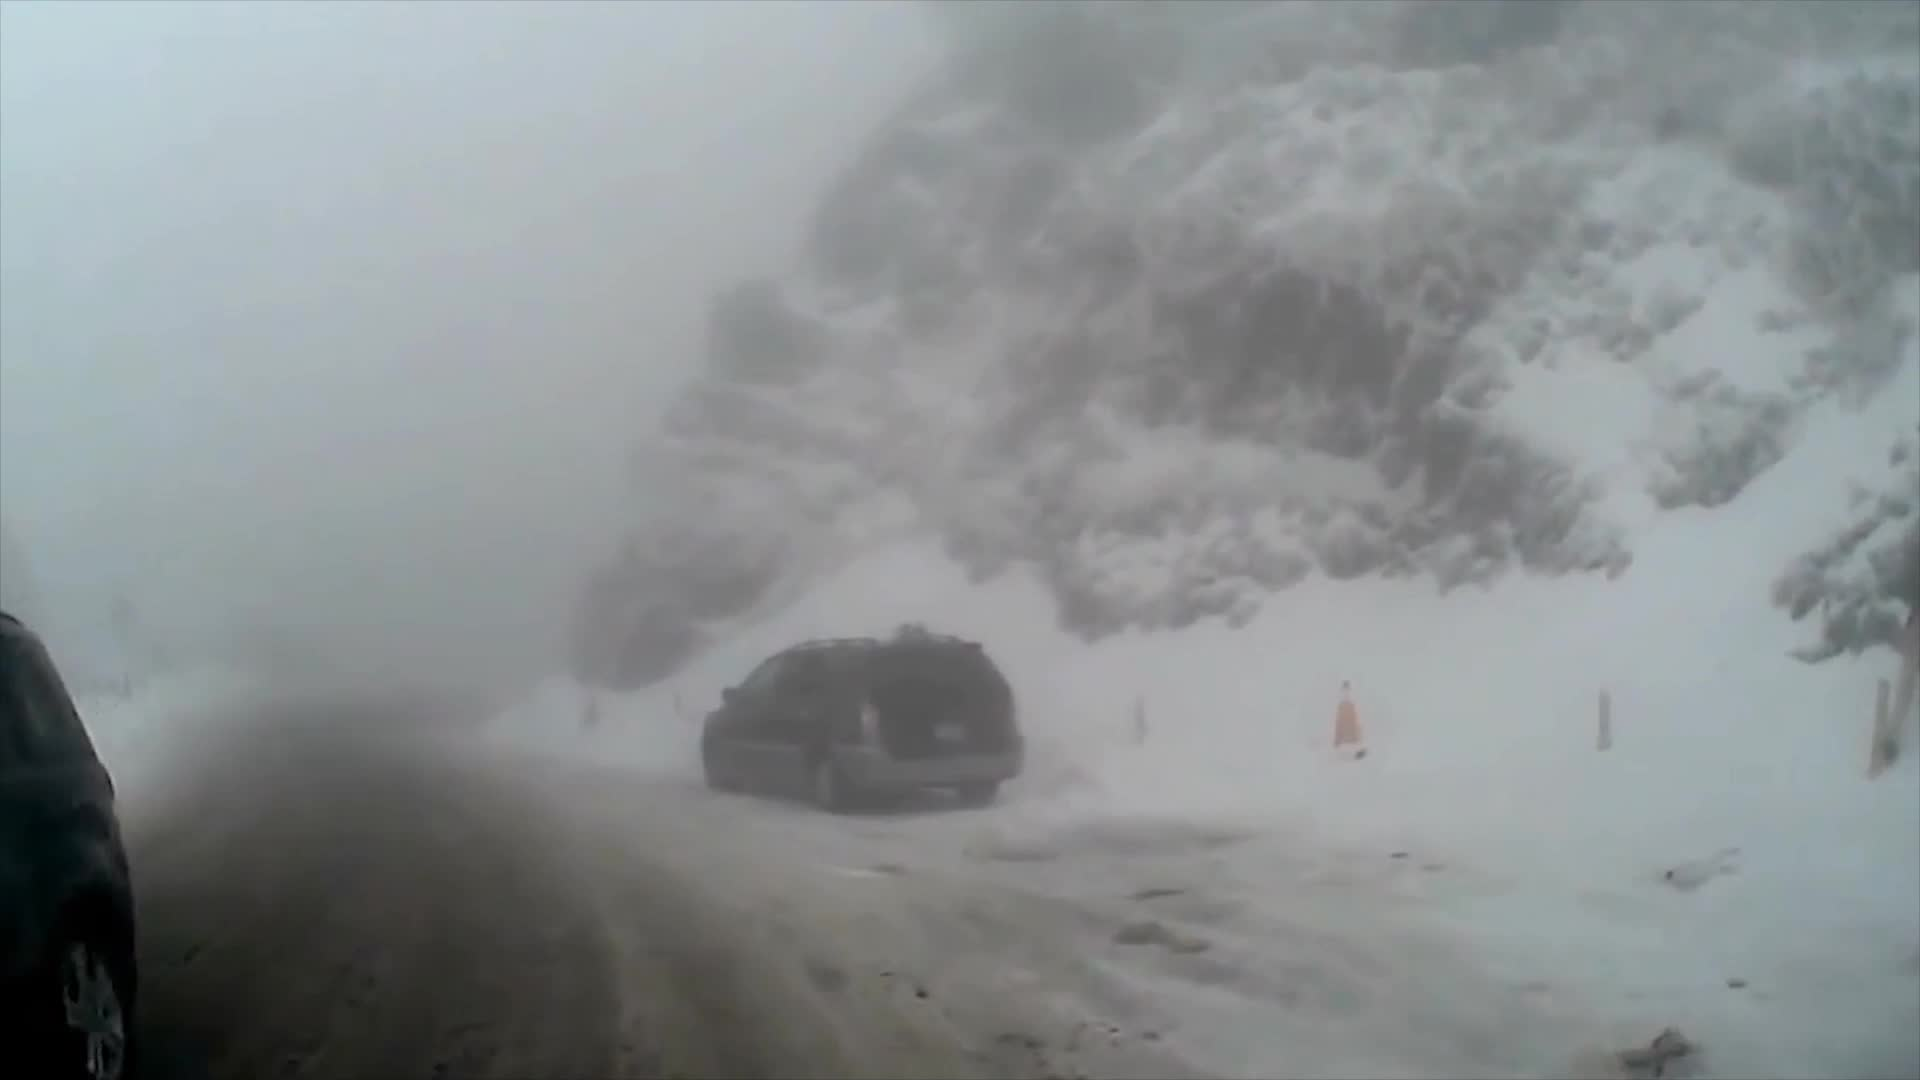vehicle: (0, 609, 142, 1079), (698, 636, 1022, 810)
